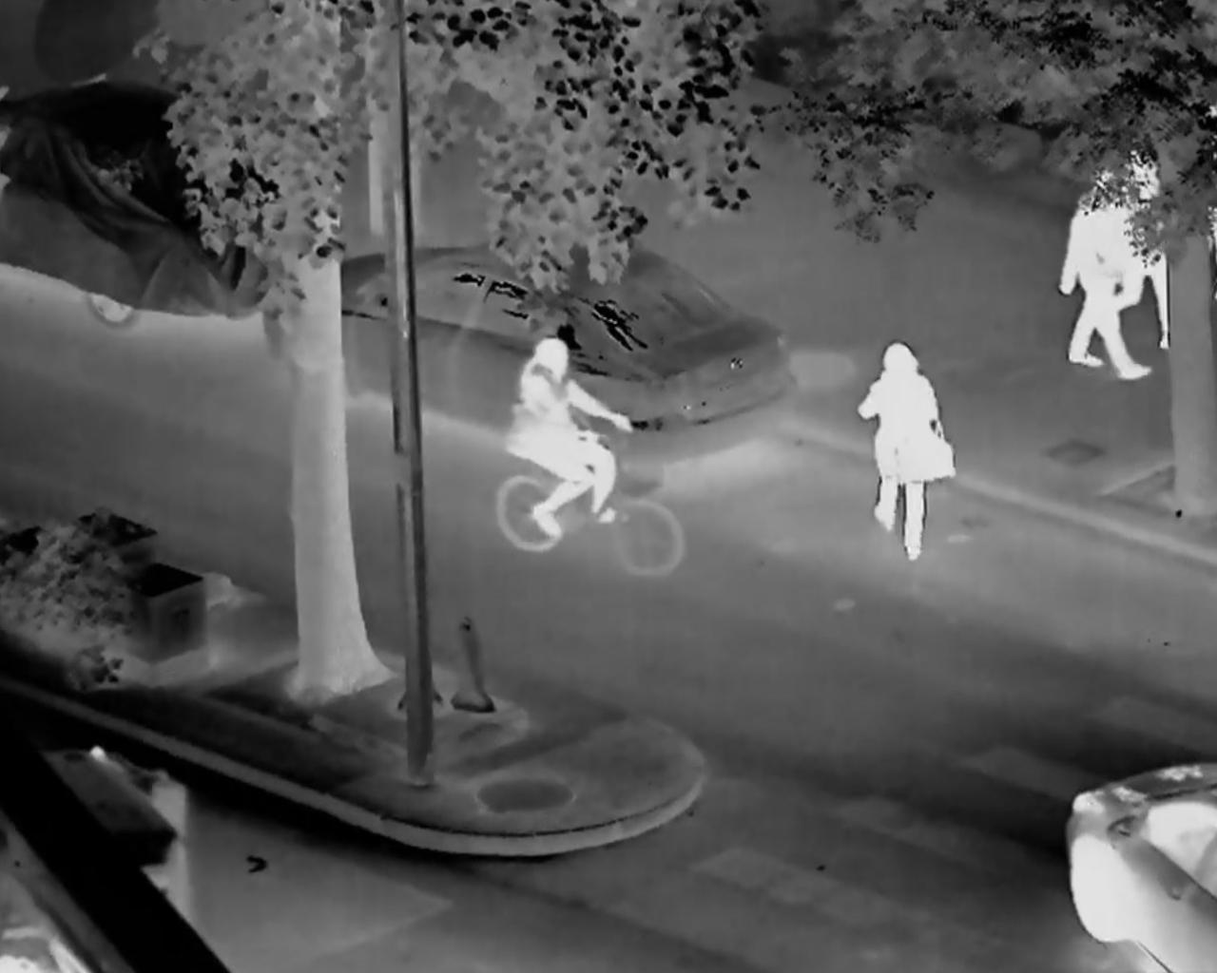person: (842, 327, 965, 571), (515, 326, 625, 562), (1055, 170, 1143, 410), (1111, 135, 1188, 361)
